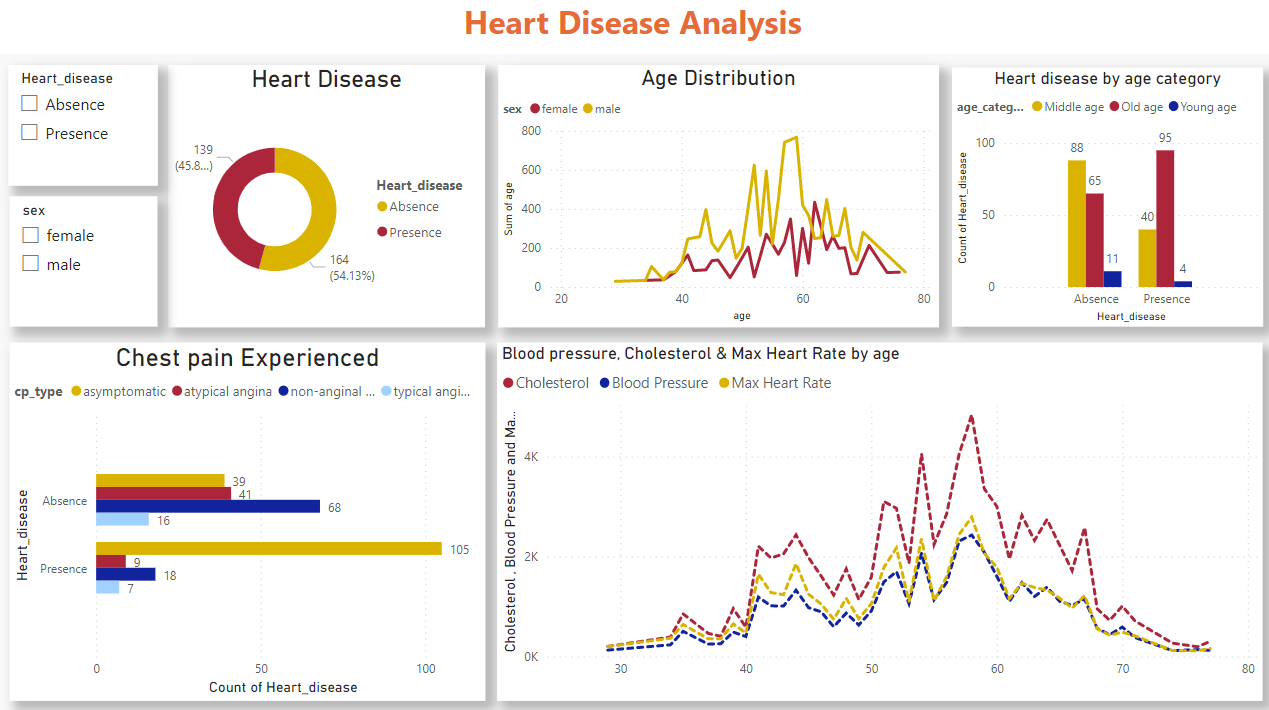

The page's visual inventory and layout, read from the dashboard file:
{"tool":"powerbi","page":{"name":"Page_1","canvas":[1280,720],"ordinal":0},"visuals":[{"type":"textbox","box":[0,0,1280.3,59],"z":0},{"type":"donutChart","title":"Heart Disease","fields":{"Category":["heart_disease_cleaned.Heart_disease"],"Y":["CountNonNull(heart_disease_cleaned.Heart_disease)"]},"box":[171.5,70,317,262.1],"z":1},{"type":"lineChart","title":"Age Distribution","fields":{"Series":["heart_disease_cleaned.sex"],"Category":["heart_disease_cleaned.age"],"Y":["Sum(heart_disease_cleaned.age)"]},"box":[500.9,70,440.5,262.1],"z":2},{"type":"slicer","fields":{"Values":["heart_disease_cleaned.Heart_disease"]},"box":[11,70,149.6,120.8],"z":3},{"type":"slicer","fields":{"Values":["heart_disease_cleaned.sex"]},"box":[12.3,201.7,148.2,130.4],"z":4},{"type":"clusteredColumnChart","title":"Heart disease by age category","fields":{"Category":["heart_disease_cleaned.Heart_disease"],"Y":["CountNonNull(heart_disease_cleaned.Heart_disease)"],"Series":["heart_disease_cleaned.age_category"]},"box":[955.1,72.7,311.5,259.3],"z":5},{"type":"clusteredBarChart","title":"Chest pain Experienced","fields":{"Category":["heart_disease_cleaned.Heart_disease"],"Series":["heart_disease_cleaned.cp_type"],"Y":["CountNonNull(heart_disease_cleaned.Heart_disease)"]},"box":[12.3,347.2,476.2,358.1],"z":6},{"type":"lineChart","title":"Blood pressure, Cholesterol & Max Heart Rate by age","fields":{"Category":["heart_disease_cleaned.age"],"Y":["Sum(heart_disease_cleaned.chol)","Sum(heart_disease_cleaned.trestbps)","Sum(heart_disease_cleaned.thalach)"]},"box":[500.5,347.3,765.8,358.2],"z":7}]}

Visuals, with their boxes in screenshot pixels (x1, y1, x2, y2), scaled from the page's 1280x720 canvas onto the 1269x710 screenshot:
textbox: region(0, 0, 1268, 58)
"Heart Disease" donutChart: region(170, 69, 484, 327)
"Age Distribution" lineChart: region(497, 69, 933, 327)
slicer - heart_disease_cleaned.Heart_disease: region(11, 69, 159, 188)
slicer - heart_disease_cleaned.sex: region(12, 199, 159, 327)
"Heart disease by age category" clusteredColumnChart: region(947, 72, 1256, 327)
"Chest pain Experienced" clusteredBarChart: region(12, 342, 484, 696)
"Blood pressure, Cholesterol & Max Heart Rate by age" lineChart: region(496, 342, 1255, 696)
